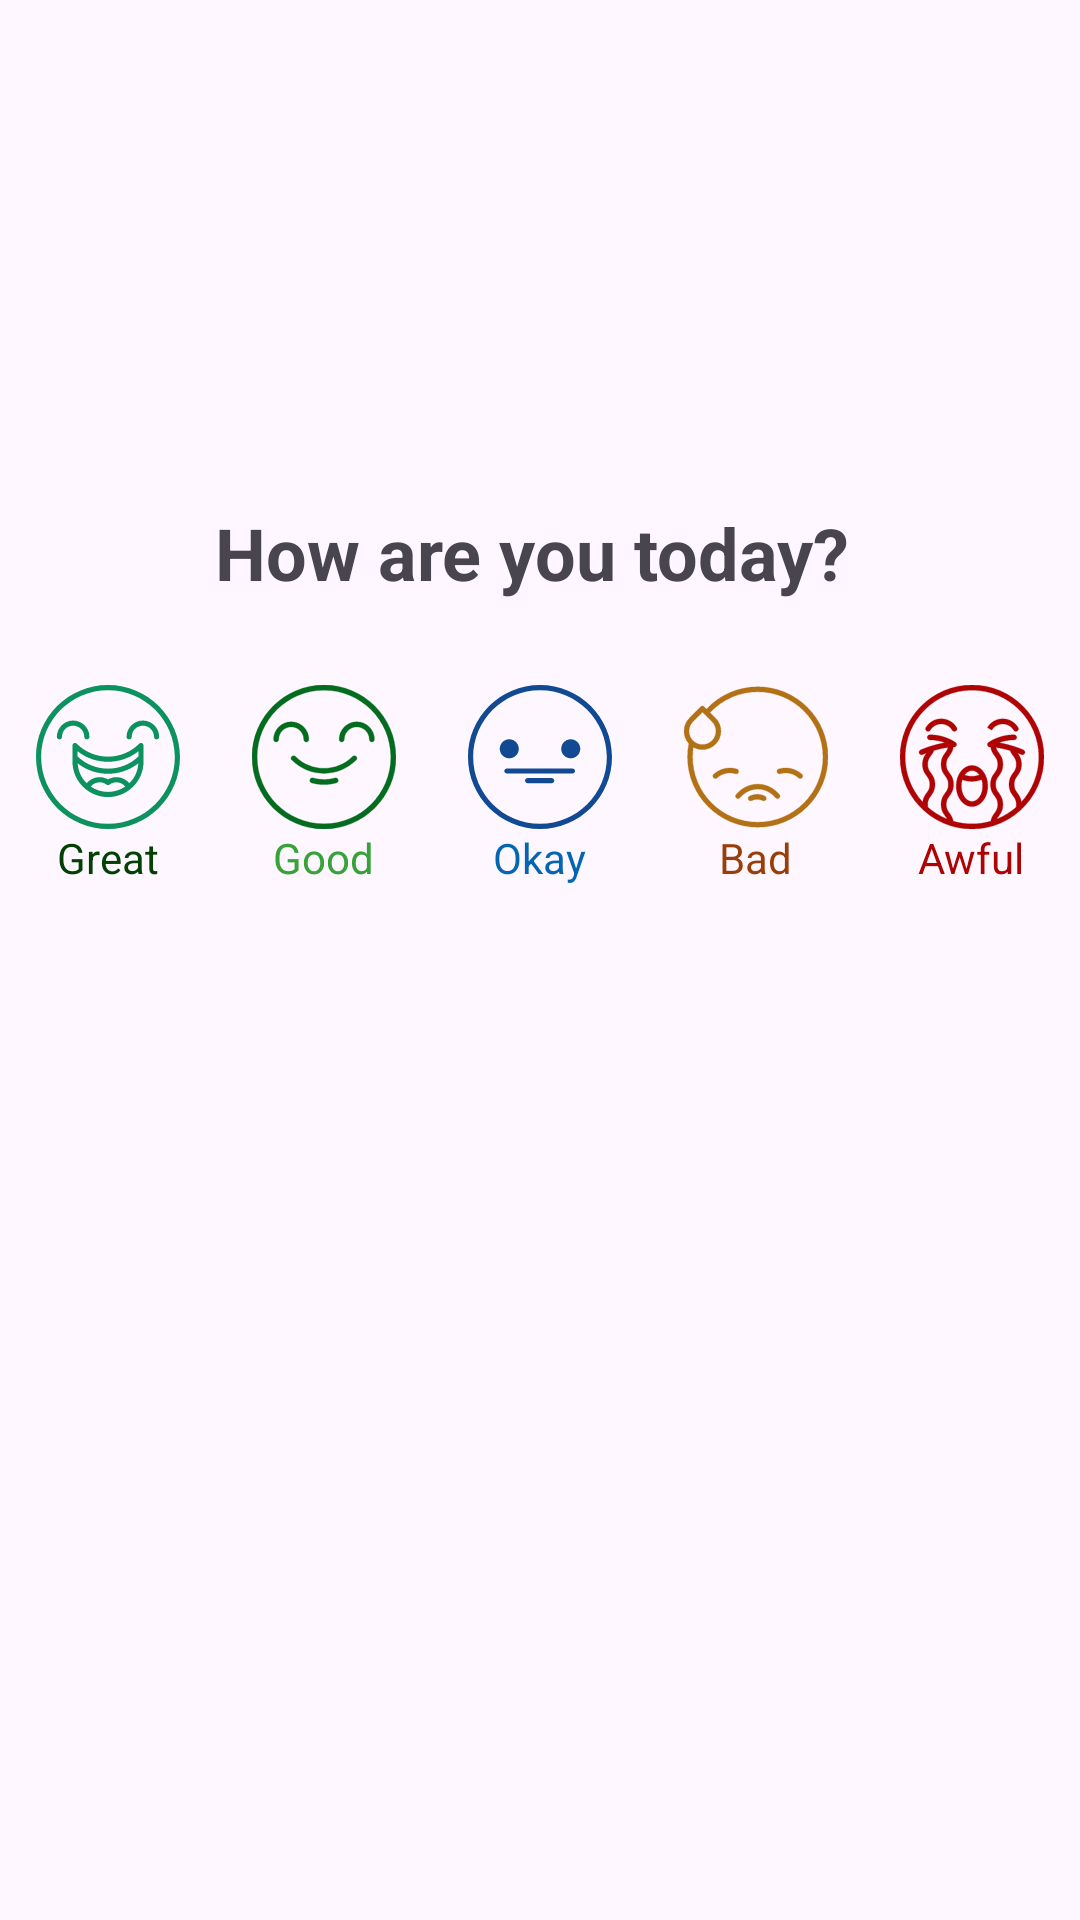

Where to tap for icons on this 1080px×1920px app screen, as [x,y]:
happy: [108,757]
